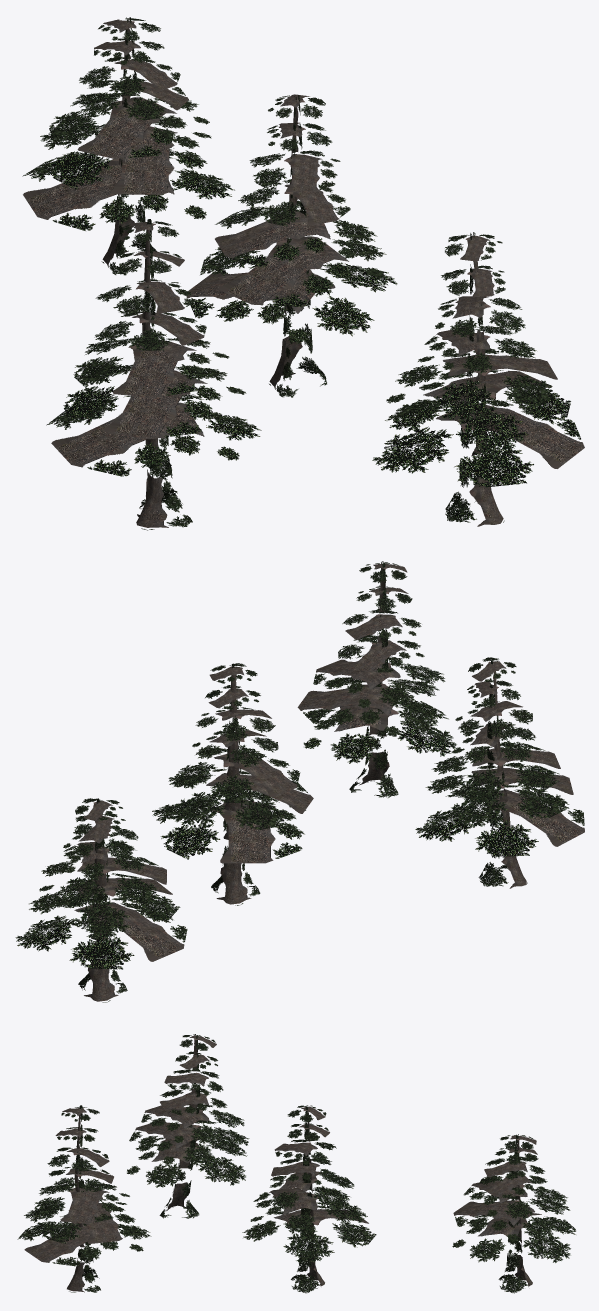
The model's file is tree_conif.glb.
3 views of the same model, one above another, from view 1: azimuth 30°, elevation 25°; view 2: azimuth 150°, elevation 25°; view 3: azimuth 270°, elevation 25° (orthographic). The views are drawn at different scales.
Visible parts, largest first — view 1: tree_conif3, tree_conif4, tree_conif1, tree_conif2; view 2: tree_conif4, tree_conif1, tree_conif2, tree_conif3; view 3: tree_conif4, tree_conif1, tree_conif3, tree_conif2.
Part boxes in pixels (x1,y1,x2,y2): tree_conif3: (372,232,584,526); tree_conif4: (46,219,261,530); tree_conif1: (186,94,397,397); tree_conif2: (22,17,234,275); tree_conif4: (415,657,584,888); tree_conif1: (152,663,313,905); tree_conif2: (15,798,187,1002); tree_conif3: (297,561,456,797); tree_conif4: (127,1034,249,1218); tree_conif1: (242,1105,376,1293); tree_conif3: (17,1105,151,1292); tree_conif2: (452,1134,575,1293).
Bounding box in the file's own units: 33.49 × 21.71 × 61.19.
1 material, 1 textured.
